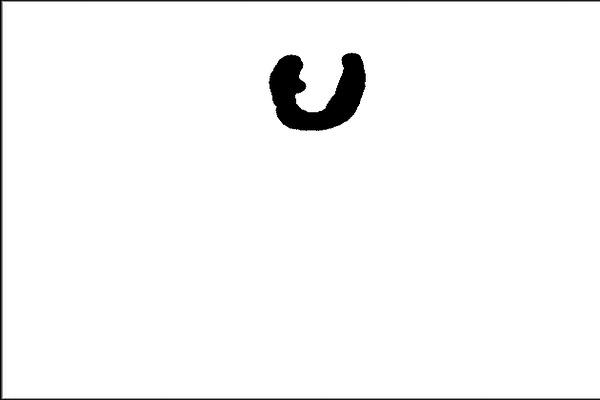U: (264, 39, 382, 137)
